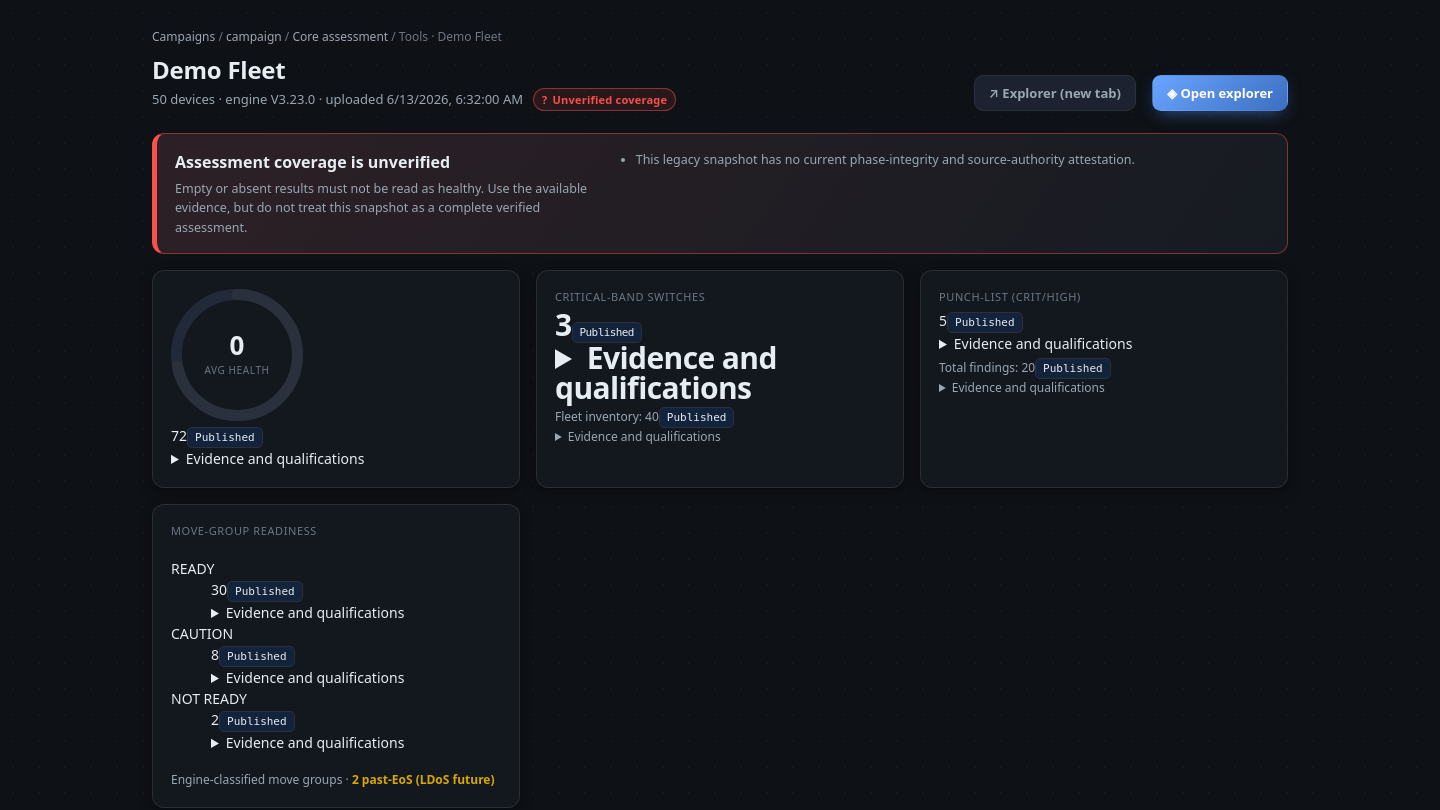
it: Snapshot cockpit › Unit 12: the explorer toggle announces aria-expanded
The width and height of the screenshot is (1440, 810).
Expected: the heading "Demo Fleet" is shown, [152,53,286,86]
What coordinates should you click on to do the following:
click the button "◈ Open explorer"
I would click on:
 (1220, 93)
Its box is [1152,75,1288,111].
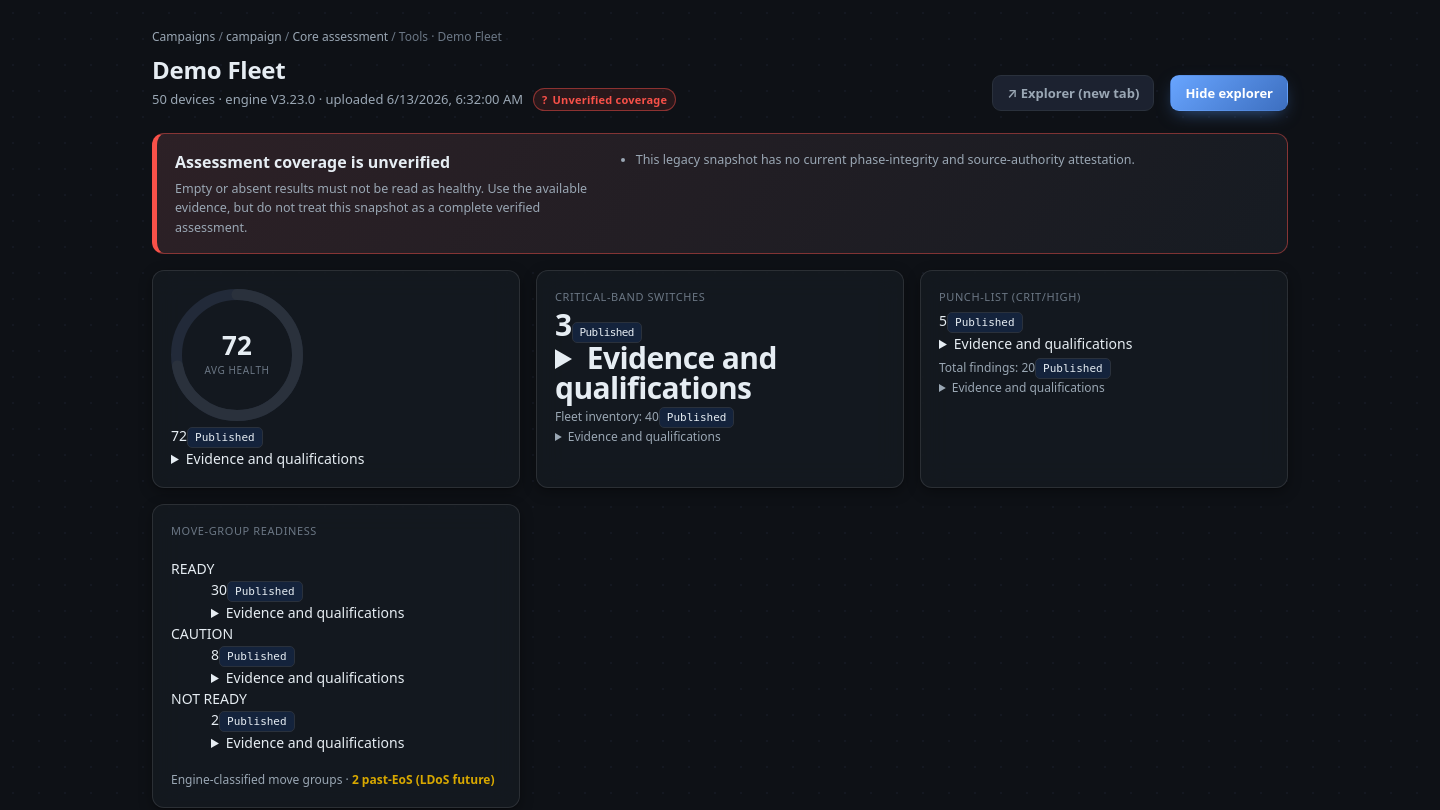
Expected: the button "Hide explorer" is expanded, [1170,75,1288,111]
